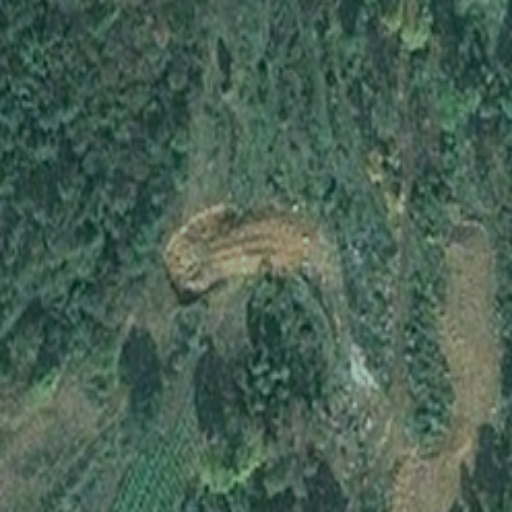landslide: (167, 209, 338, 289)
